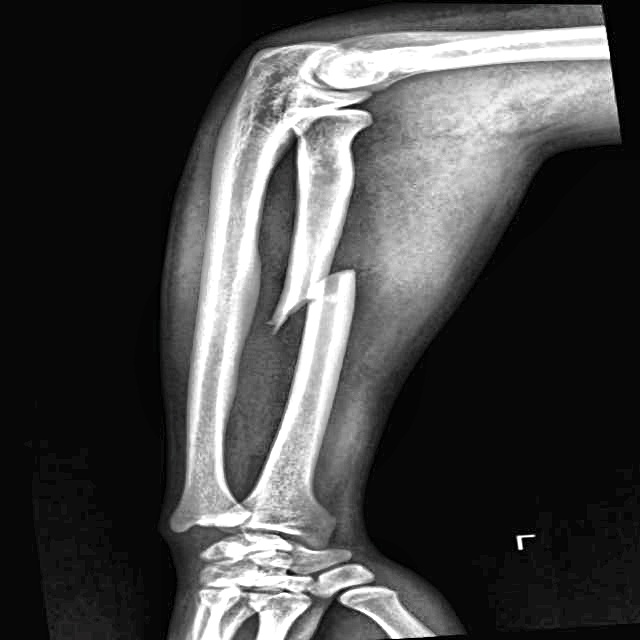Oblique: (251, 247, 389, 345)
